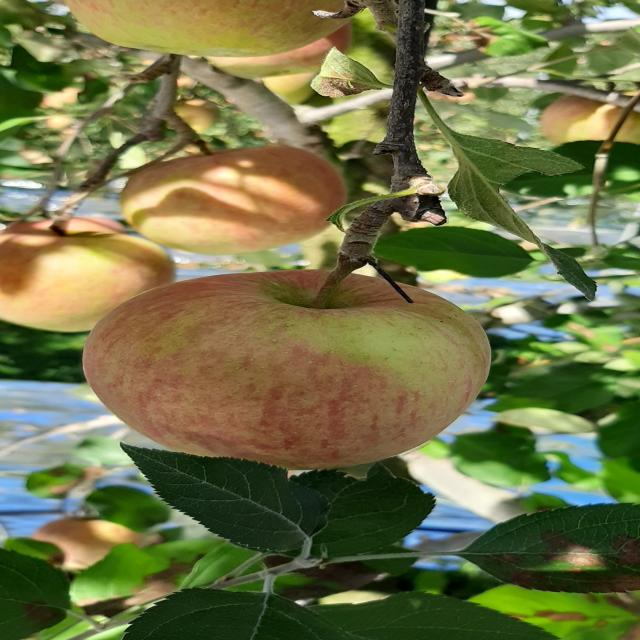fresh: (64, 263, 521, 473)
